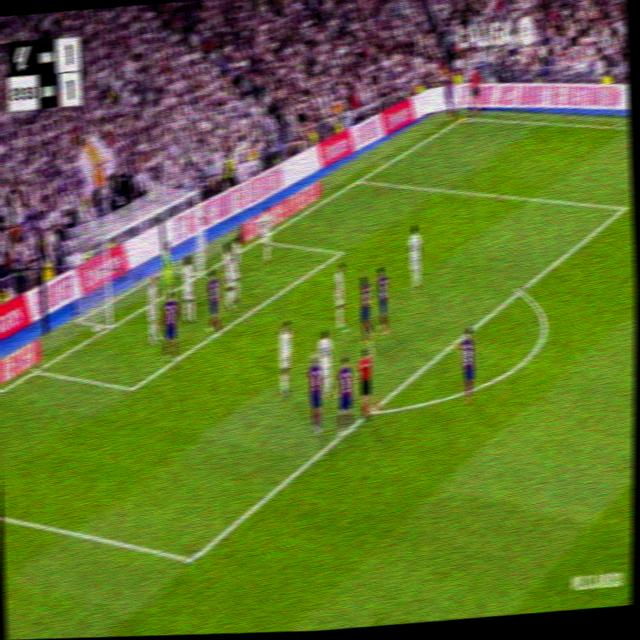bigarea_bottom_inner: (183, 542, 202, 577)
bigarea_top_inner: (619, 198, 630, 218)
bigarea_top_outter: (354, 172, 366, 188)
bottom_arc_area_intersection: (368, 398, 380, 420)
smallarea_bottom_inner: (125, 375, 139, 401)
smallarea_bottom_outter: (31, 362, 44, 377)
smallarea_top_inner: (334, 241, 347, 261)
top_arc_area_intersection: (513, 281, 527, 301)
